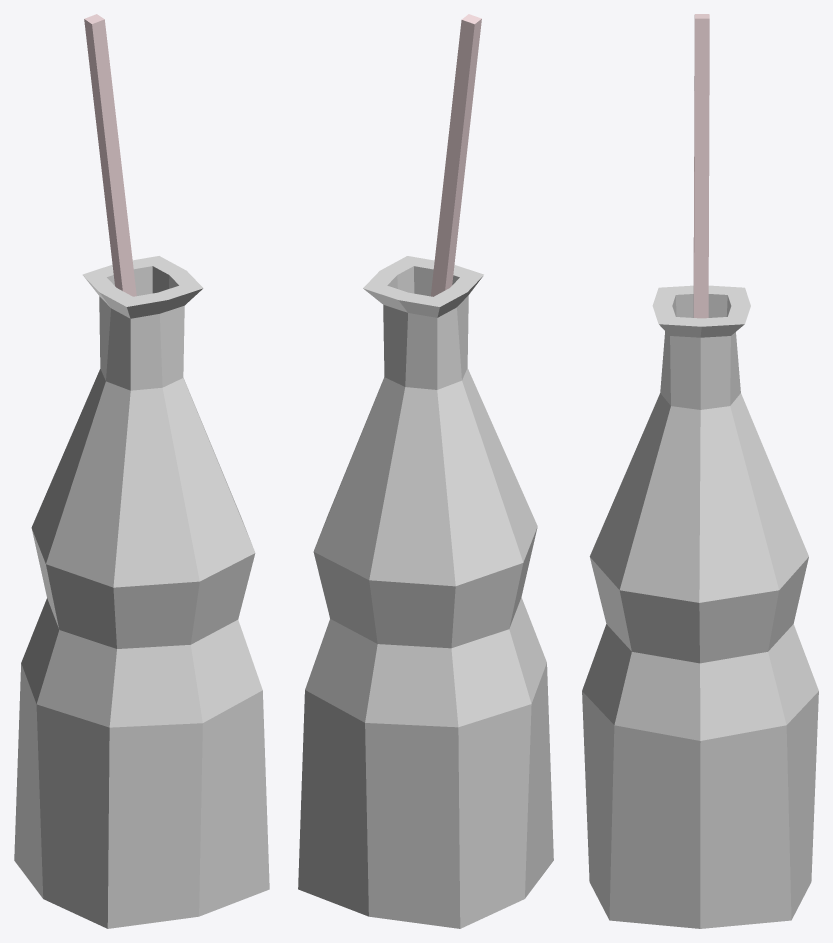
File: fanta.fbx
The picture shows the model from 3 angles, left to right: view 1: azimuth 30°, elevation 25°; view 2: azimuth 150°, elevation 25°; view 3: azimuth 270°, elevation 25°; orthographic projection. The views are drawn at different scales.
Visible parts, largest first — view 1: FantaBottle, straw; view 2: FantaBottle, straw; view 3: FantaBottle, straw.
Boxes of the visible parts, x1,y1,x2,y2 form: FantaBottle: [14, 256, 269, 928]; straw: [84, 14, 136, 296]; FantaBottle: [298, 256, 553, 928]; straw: [430, 14, 481, 296]; FantaBottle: [582, 285, 818, 928]; straw: [693, 14, 709, 318].
Bounding box in the file's own units: 8.88 × 34.9 × 8.88.
